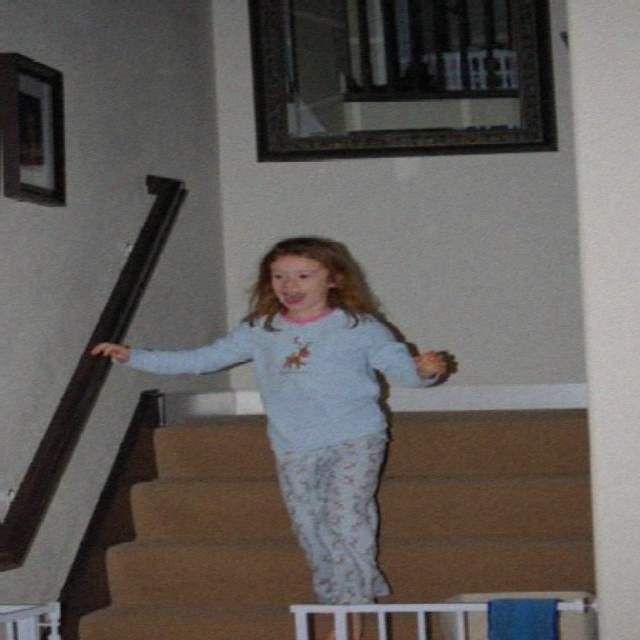stair: (76, 407, 596, 640)
